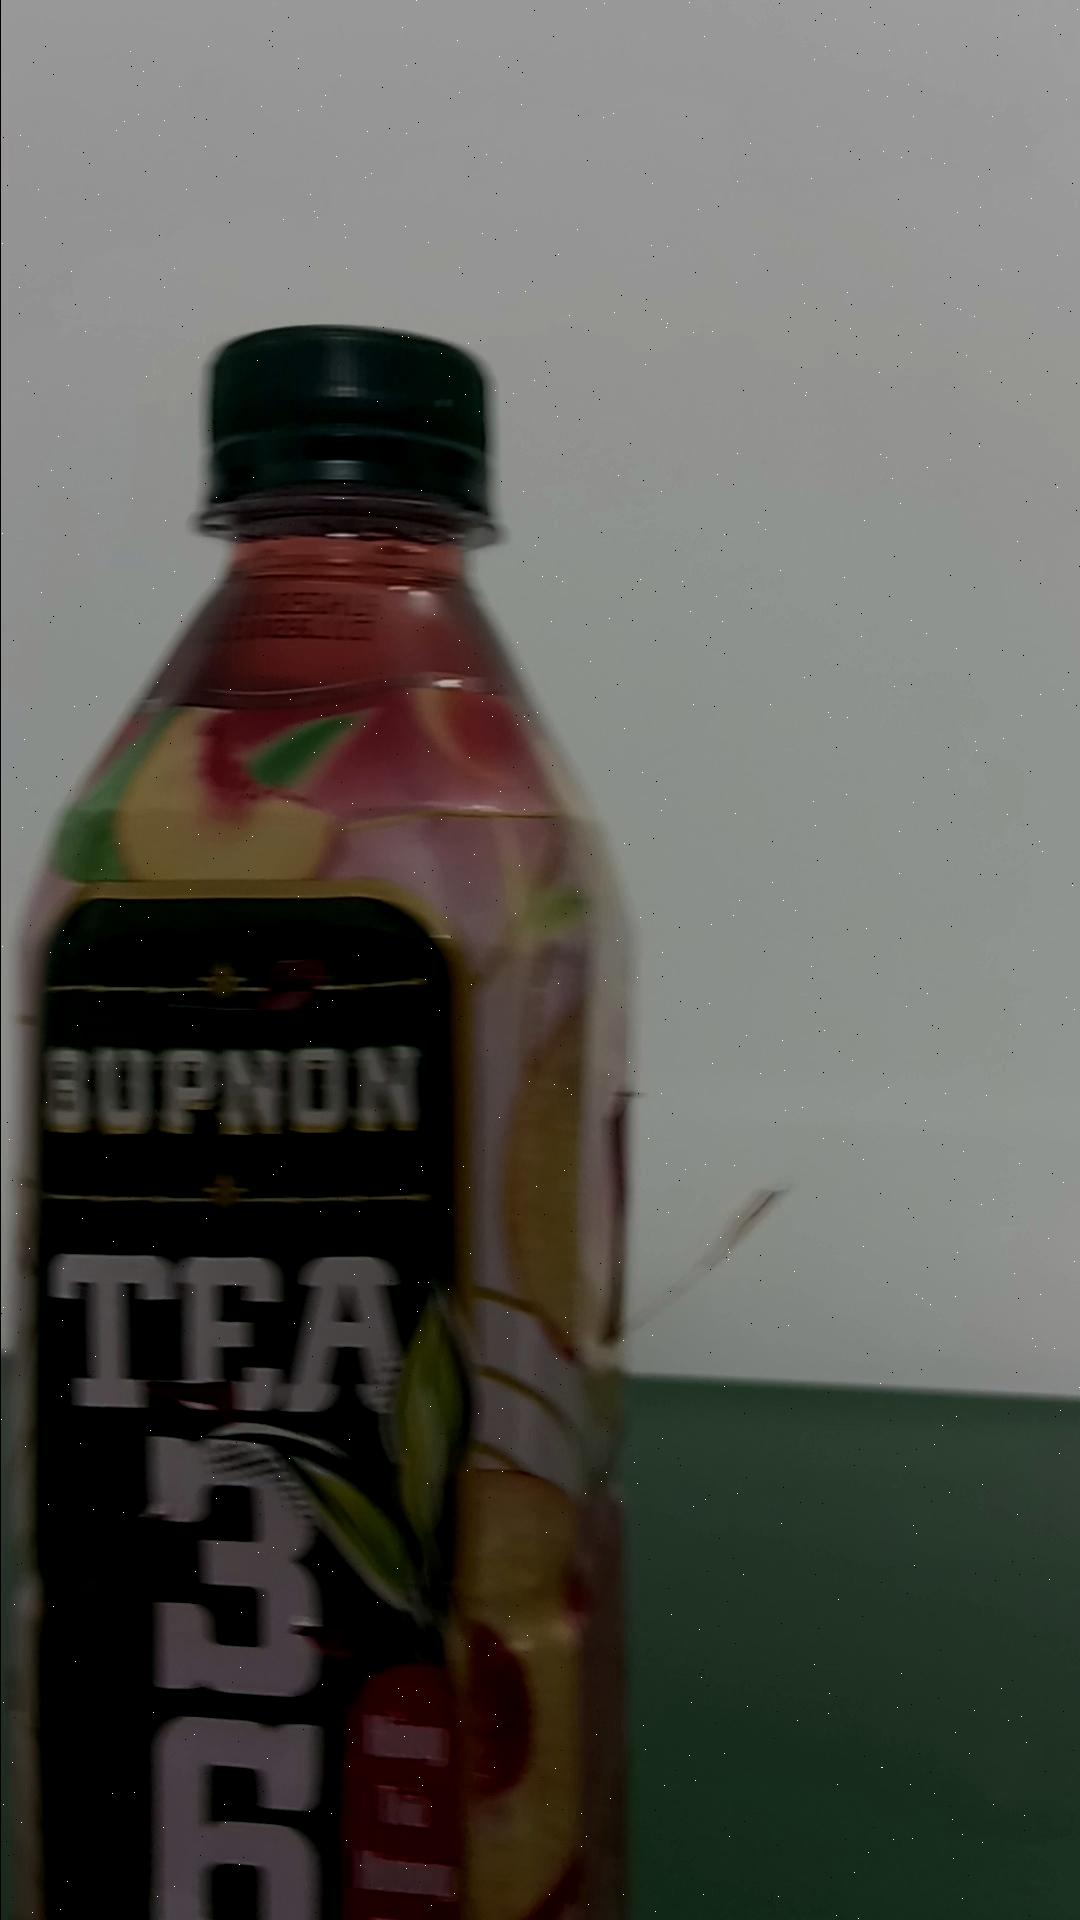loi rach va lap chai: (15, 319, 666, 1920)
